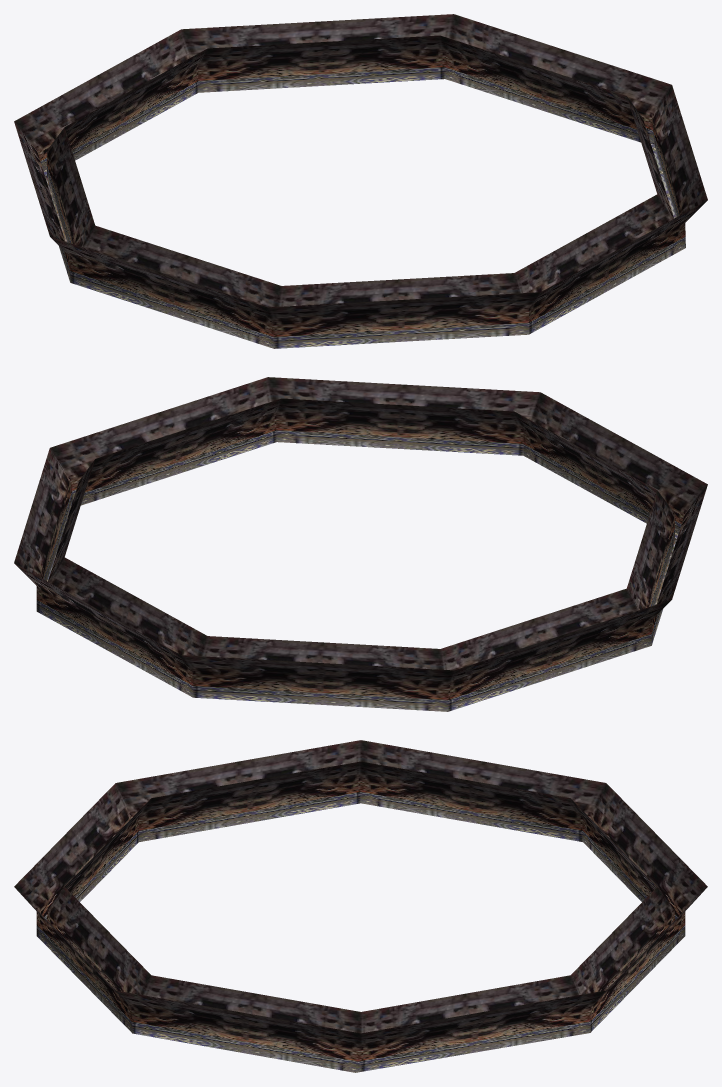
File: nder05.obj
3 views of the same model, one above another, from view 1: azimuth 30°, elevation 25°; view 2: azimuth 150°, elevation 25°; view 3: azimuth 270°, elevation 25° (orthographic). The views are drawn at different scales.
Parts seen in each view (by area): view 1: nder05; view 2: nder05; view 3: nder05.
Boxes of the visible parts, box(x1,y1,x2,y2) form: nder05: box(14, 14, 707, 348); nder05: box(14, 377, 707, 711); nder05: box(14, 740, 707, 1072).
Size of the model in its own units: 191 by 15 by 191.
